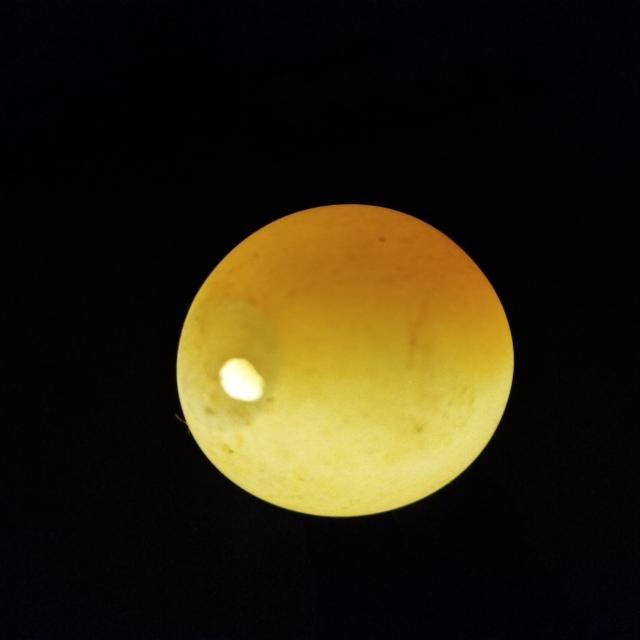Camara de Ar: (177, 298, 285, 430)
